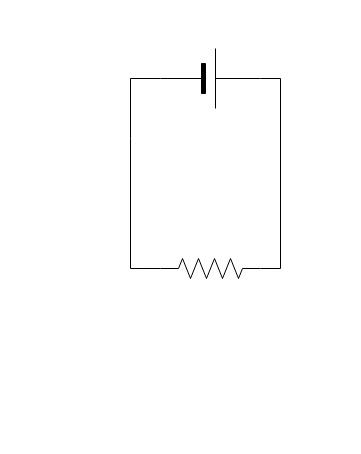resistor: (162, 241, 259, 298)
